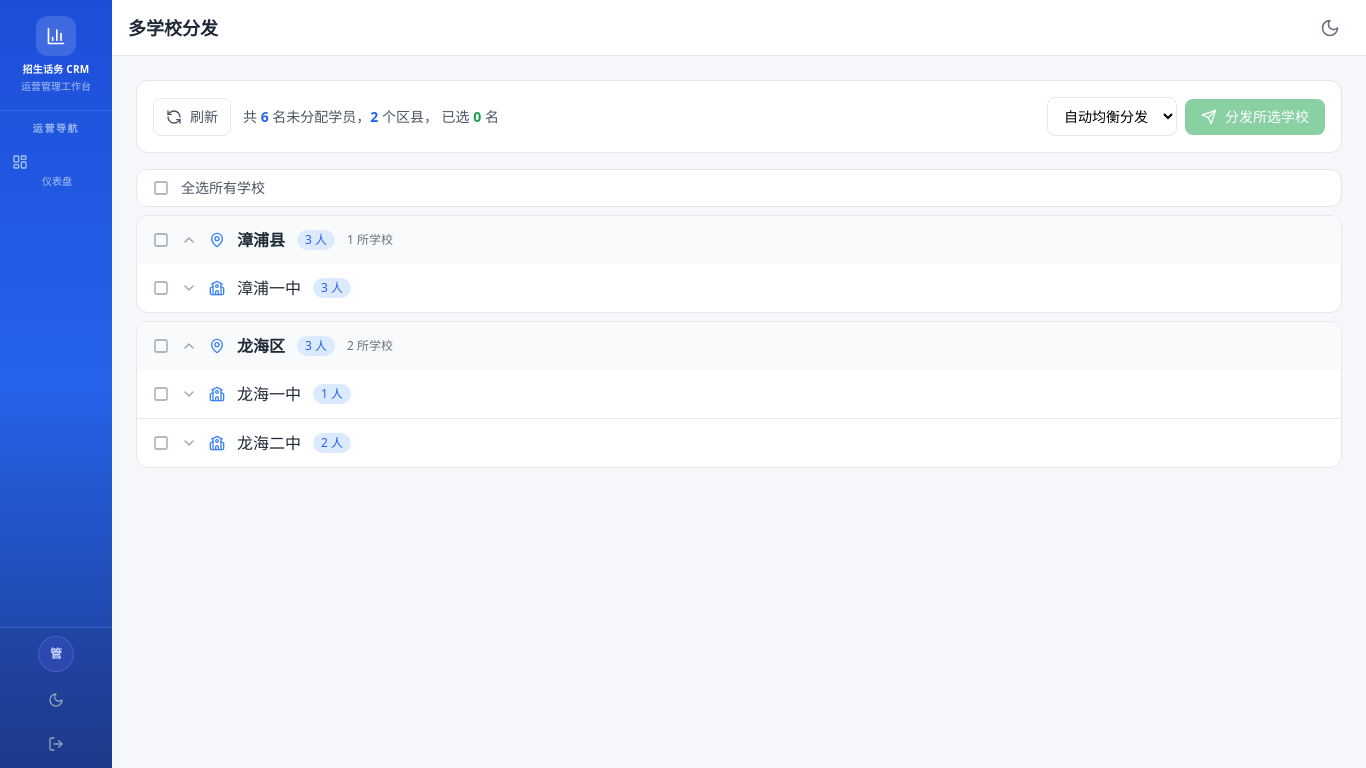
Test: DistributeBySchools › loads expanded unassigned students from the students endpoint
The image size is (1366, 768).
Click the text "龙海一中".
click(269, 394)  # box [237,382,301,406]
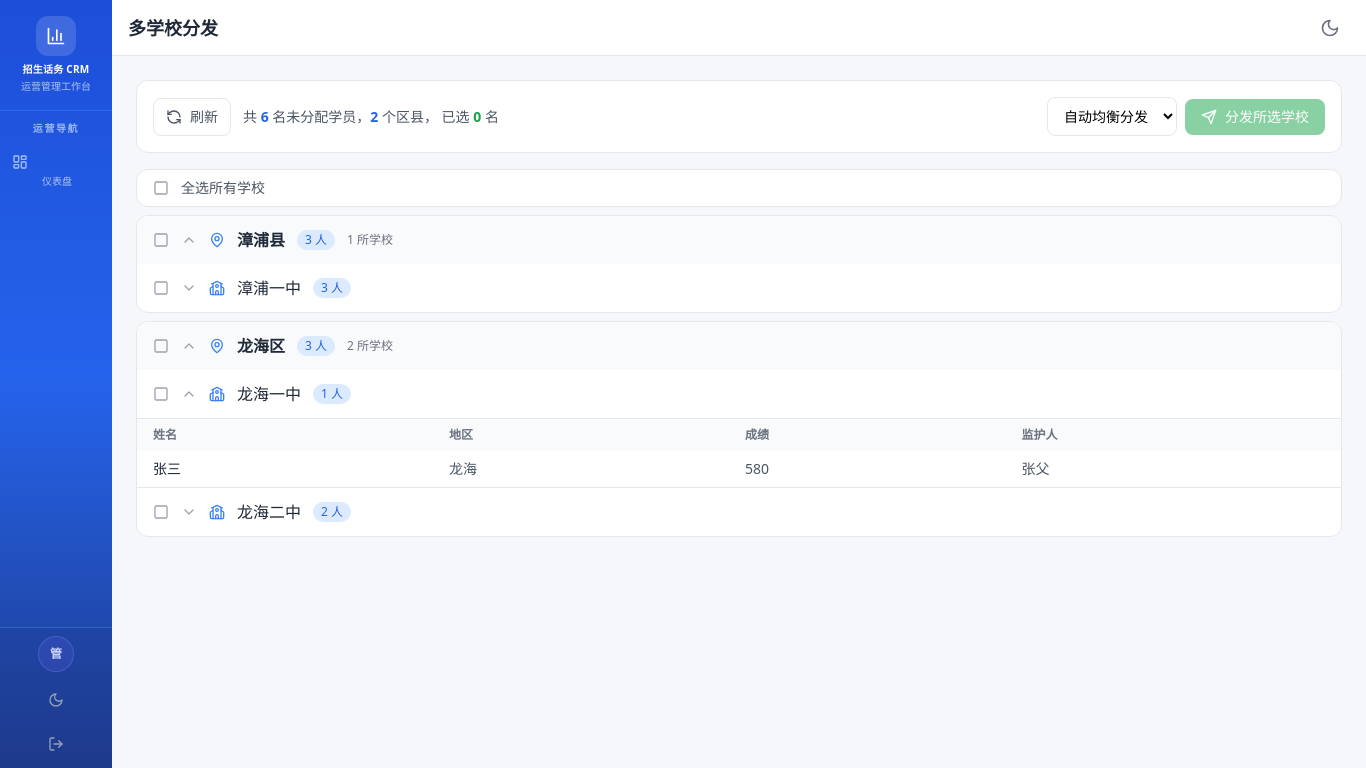
Result: the text "张三" is shown at [137,451,433,487]
